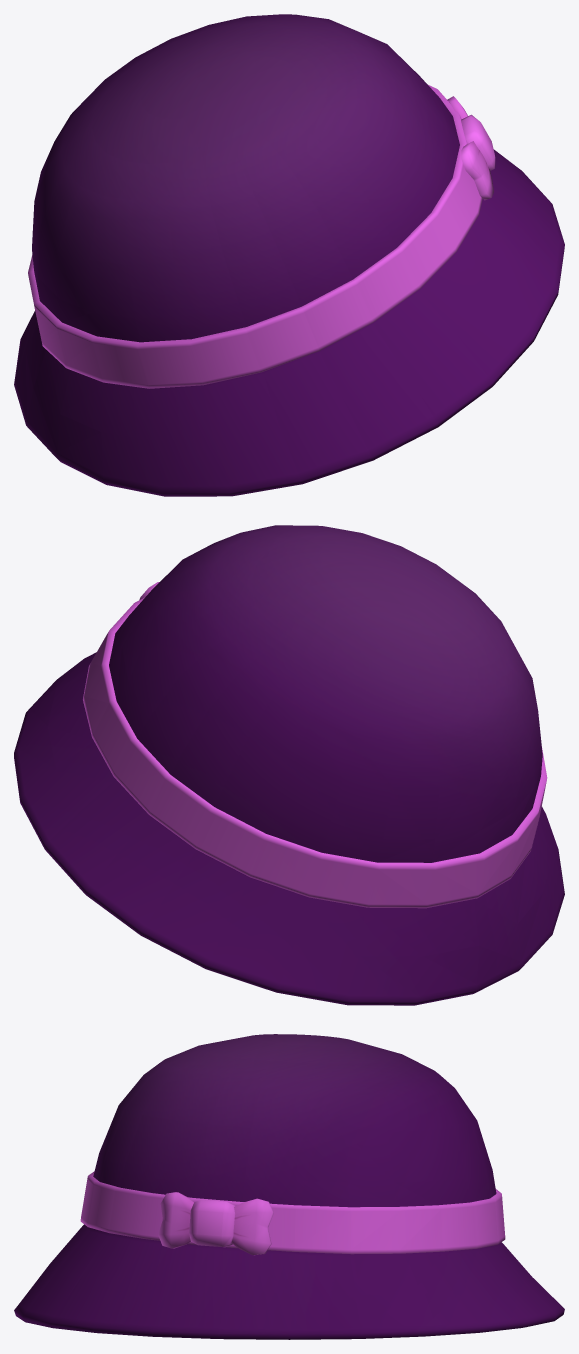
3 views of the same model, one above another, from view 1: azimuth 30°, elevation 25°; view 2: azimuth 150°, elevation 25°; view 3: azimuth 270°, elevation 25° (orthographic). The views are drawn at different scales.
Visible parts, largest first — view 1: model_0; view 2: model_0; view 3: model_0.
Boxes of the visible parts, x1,y1,x2,y2 form: model_0: (14, 14, 564, 496); model_0: (14, 525, 564, 1005); model_0: (14, 1034, 564, 1339).
Size of the model in its own units: 59.68 by 44.57 by 65.63.
1 material, 1 textured.
